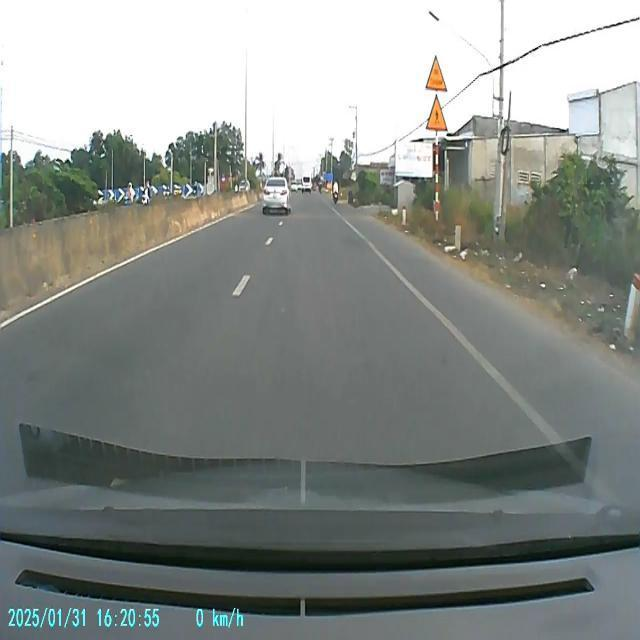224-duong-nguoi-di-bo-cat-ngang: (426, 95, 448, 133)
245-di-cham: (424, 54, 448, 94)
